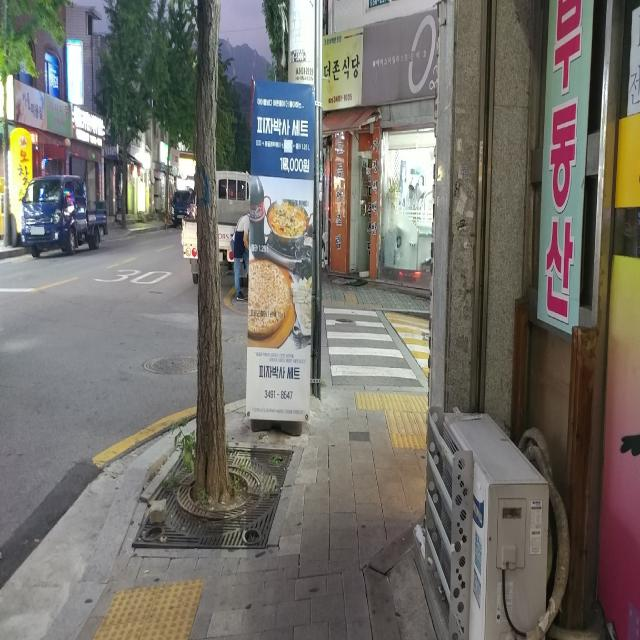횡단보도: (323, 306, 418, 382)
